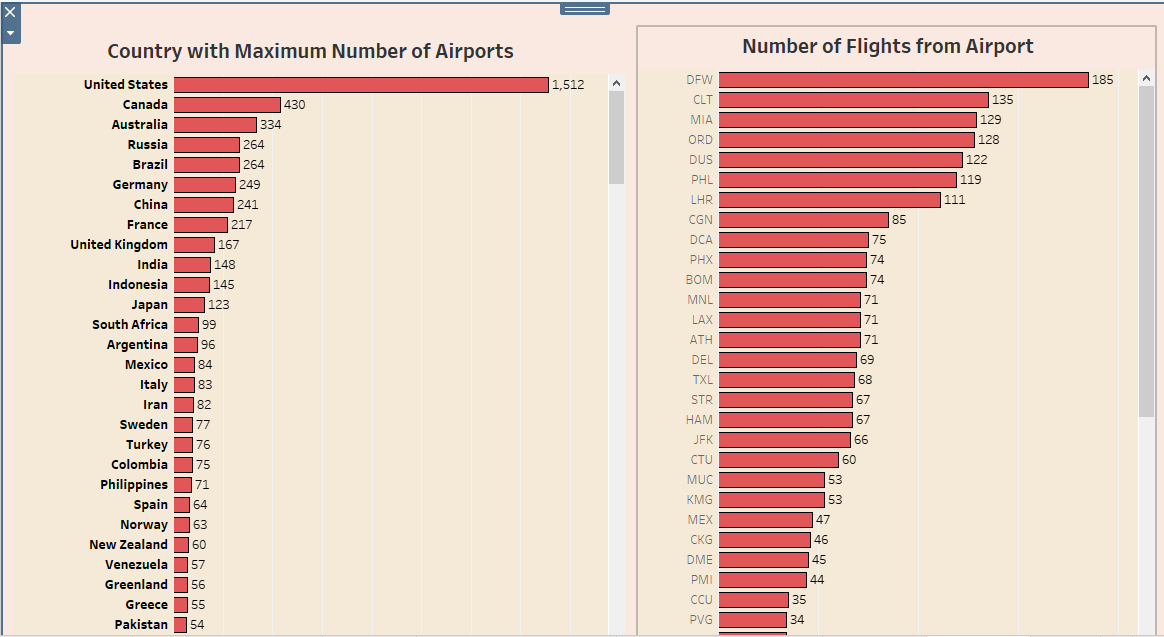

The page's visual inventory and layout, read from the dashboard file:
{"tool":"tableau","page":{"name":"Dashboard 4","canvas":[1169,827],"ordinal":3},"visuals":[{"type":"worksheet","title":"Number of Flights from Airport","mark":"Automatic","rows":["Source airport"],"cols":["airports.csv_127D9F0B726D4E5BA1BDE993D9622127"],"box":[637,25,517,786]},{"type":"worksheet","title":"Country with maximum number of airpots","mark":"Automatic","rows":["Country (airports.csv)"],"cols":["airports.csv_127D9F0B726D4E5BA1BDE993D9622127"],"box":[12,30,612,772]}]}

Visuals, with their boxes on the page's 1169x827 design canvas (x1, y1, x2, y2). These are canvas units, not pixel positions in the 1164x637 screenshot, which may show the page scaled, cropped or inside an application window:
"Number of Flights from Airport" worksheet: [x1=637, y1=25, x2=1154, y2=811]
"Country with maximum number of airpots" worksheet: [x1=12, y1=30, x2=624, y2=802]
